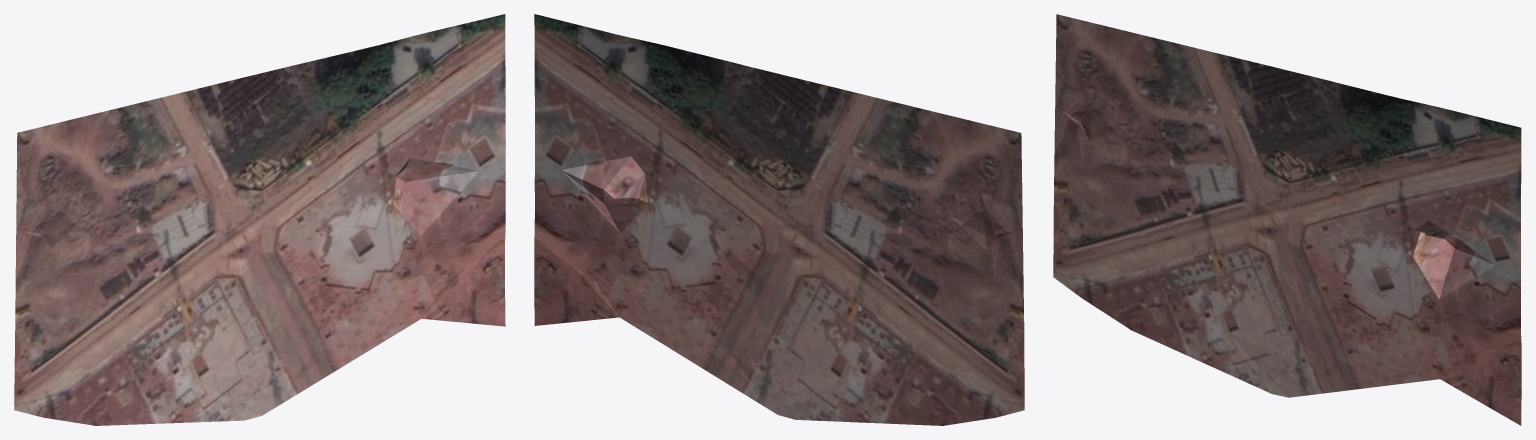
3 views of the same model, side by side, from view 1: azimuth 30°, elevation 25°; view 2: azimuth 150°, elevation 25°; view 3: azimuth 330°, elevation 25° (orthographic). The views are drawn at different scales.
Visible parts, largest first — view 1: 0_3_3_1_2_3; view 2: 0_3_3_1_2_3; view 3: 0_3_3_1_2_3.
Boxes of the visible parts, x1,y1,x2,y2 form: 0_3_3_1_2_3: [14, 14, 505, 425]; 0_3_3_1_2_3: [534, 14, 1024, 425]; 0_3_3_1_2_3: [1053, 14, 1521, 425].
Bounding box in the file's own units: 242 × 161 × 13.83.
Materials: 1 (1 with a texture image).
